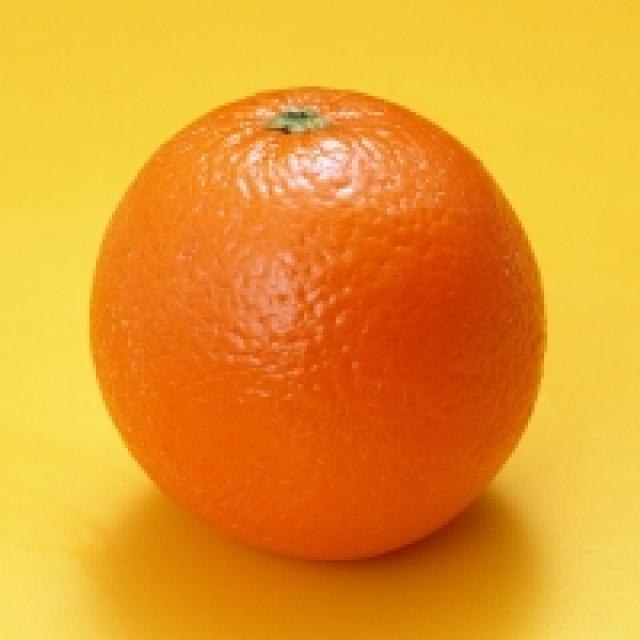Orange: (85, 86, 552, 568)
